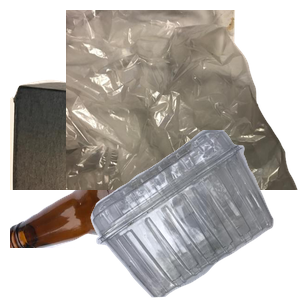cardboard: (10, 77, 245, 257)
glass: (10, 120, 247, 300)
plastic: (88, 130, 300, 300)
trash: (66, 10, 300, 190)
